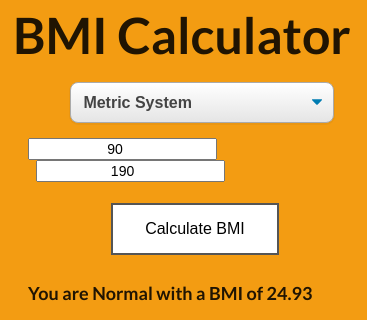
App component › Counts using the imperial method
Select "Imperial System" in the dropdown with id "method": [202, 103] box [70,82,334,123]
Replace the text in the number field with id "weight" with "192": [122, 149] box [28,138,217,160]
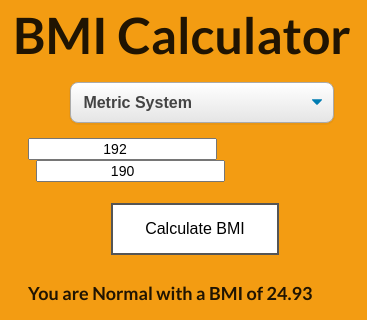
Replace the text in the number field with id "height" with "74": [130, 171] box [36,160,224,182]
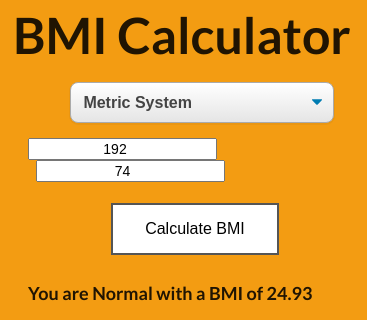
Submit the form, box [28,82,334,256]
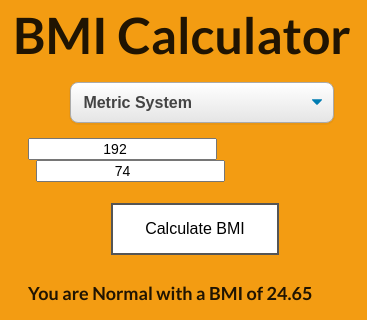
Now the heading with id "bmi-message" reads "You are Normal with a BMI of 24.65", box [28,282,312,304]
